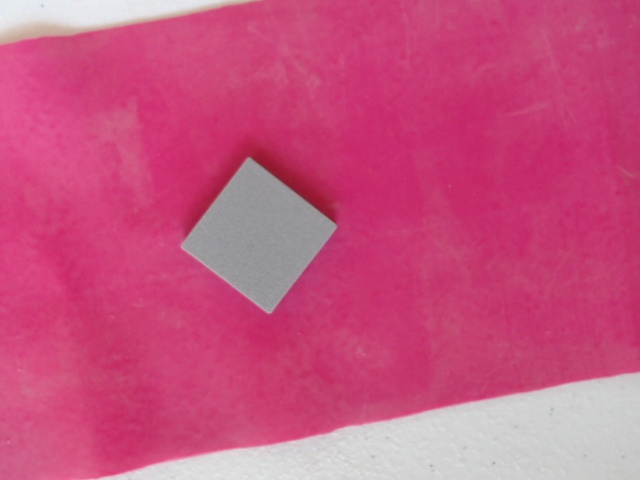Defective: (177, 153, 344, 322)
